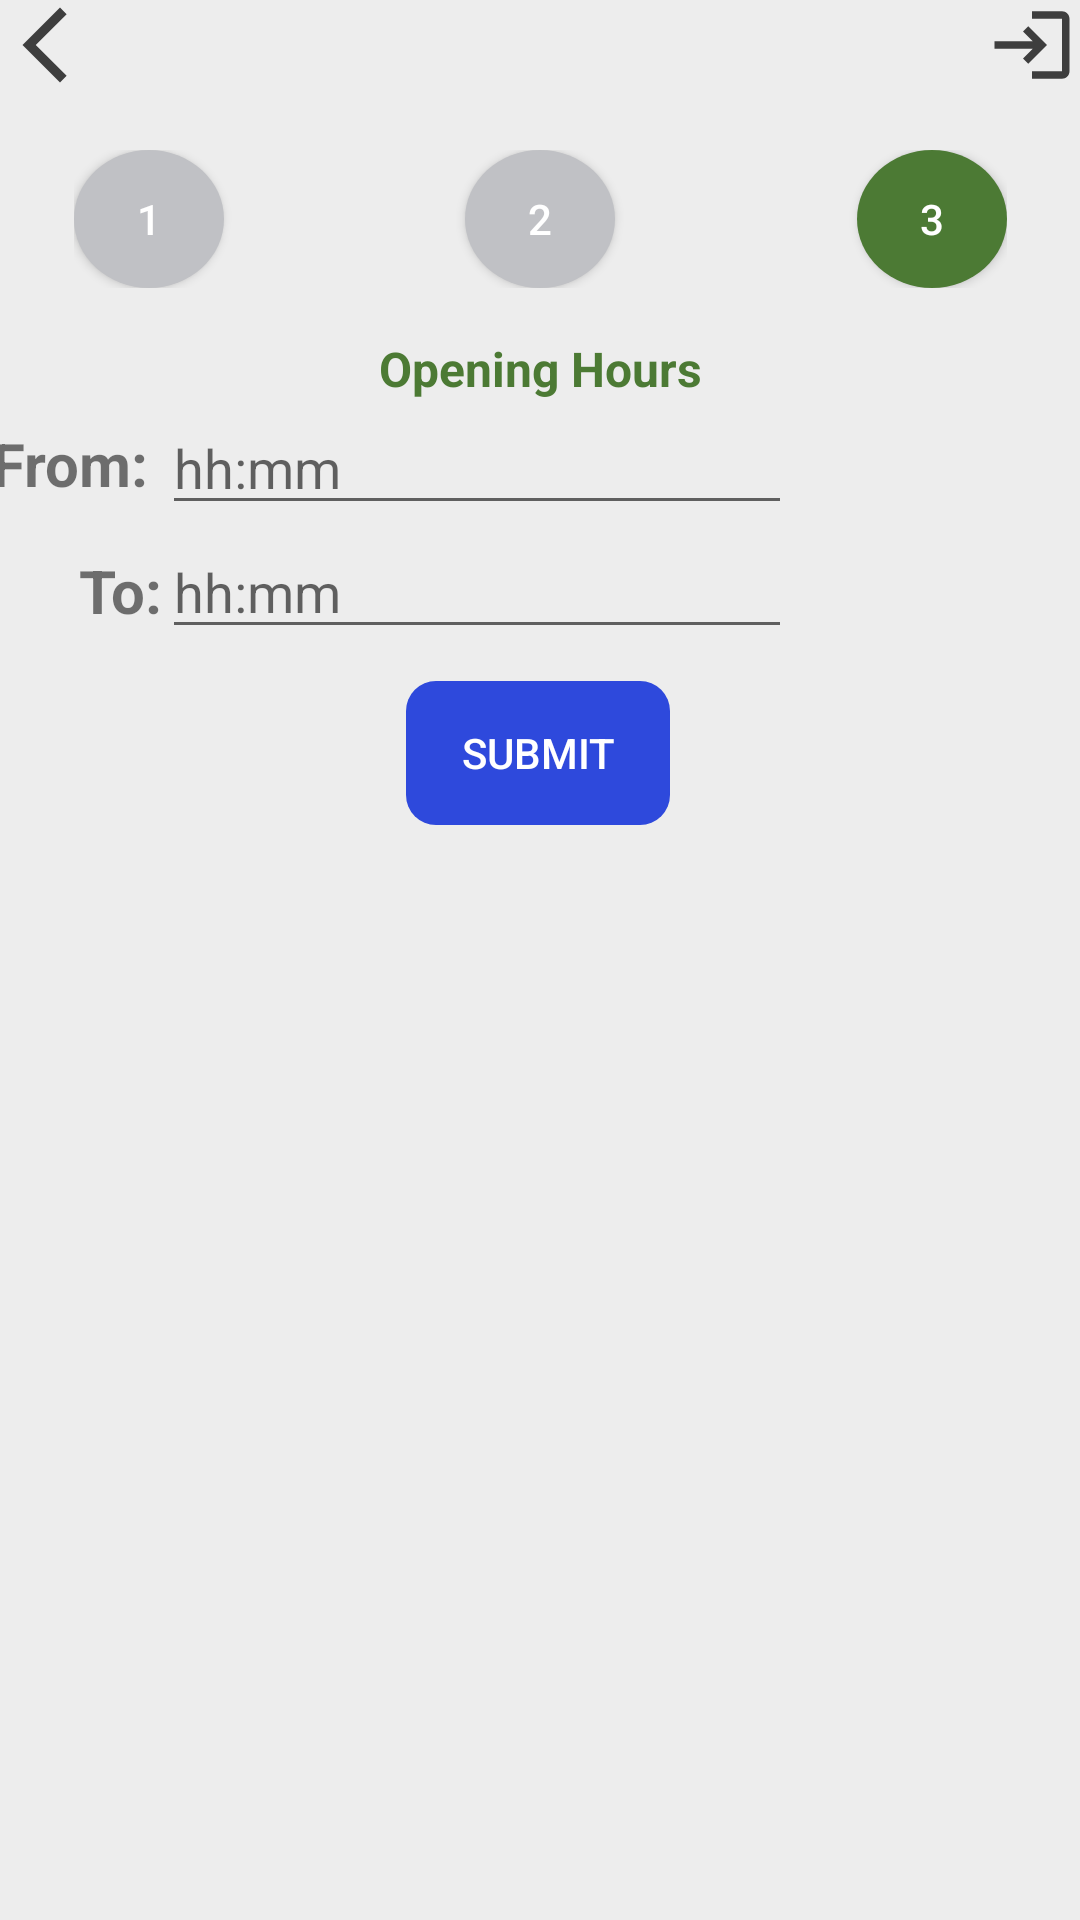

Icons on this 1080 x 1920 Android screen, each with its box as region(x1, y1, x2, y2):
back: region(23, 8, 67, 82)
